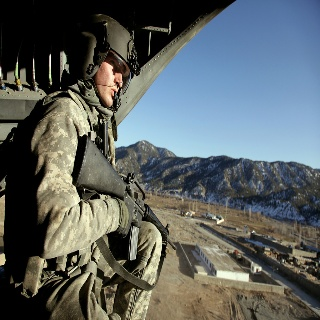rifle: (71, 133, 179, 250)
